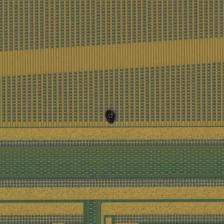PARTICLE: (102, 108, 122, 128)
